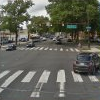crosswalk: (0, 69, 100, 83), (15, 46, 79, 51)
